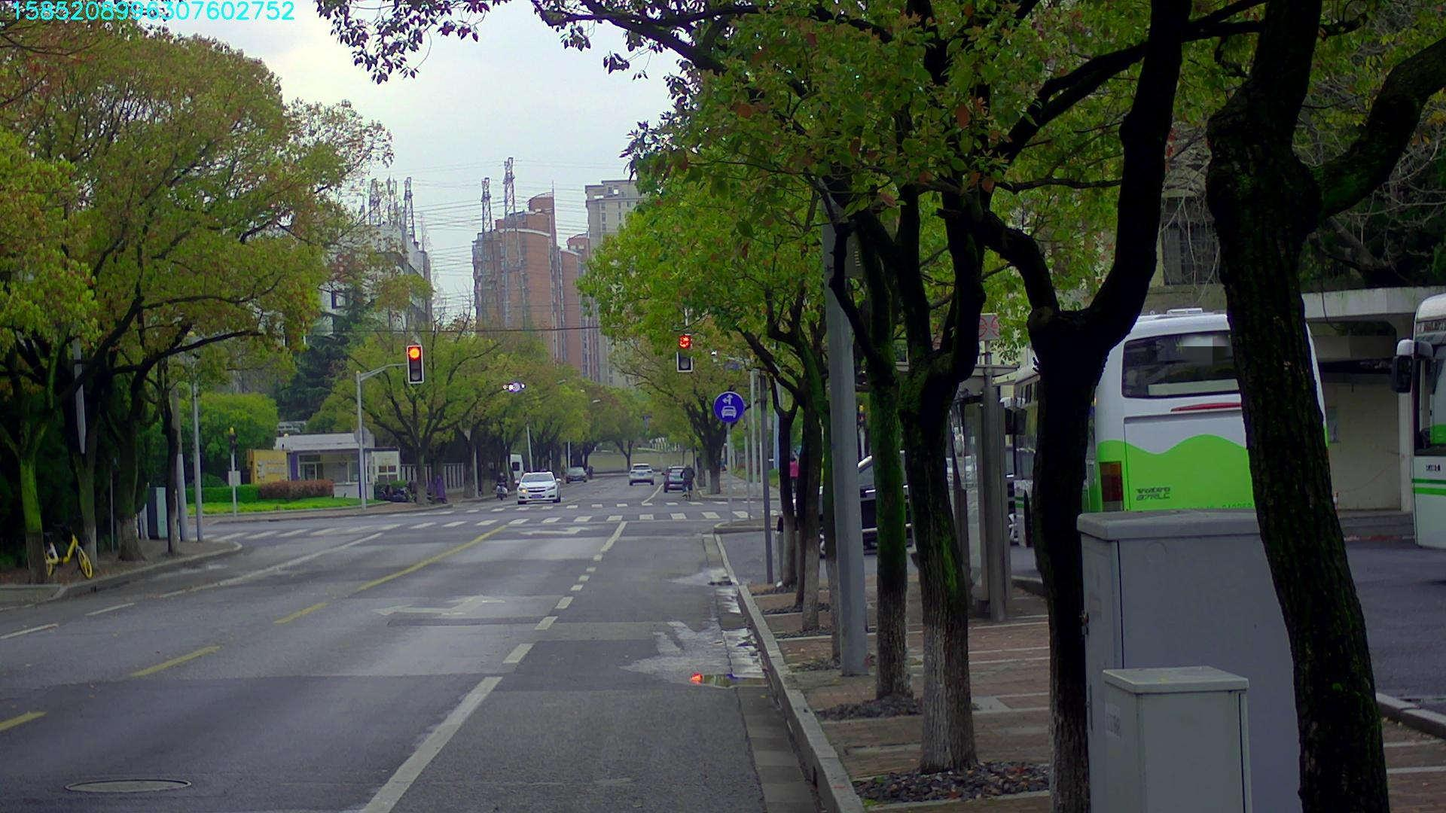red: (407, 345, 422, 382), (676, 333, 691, 370)
